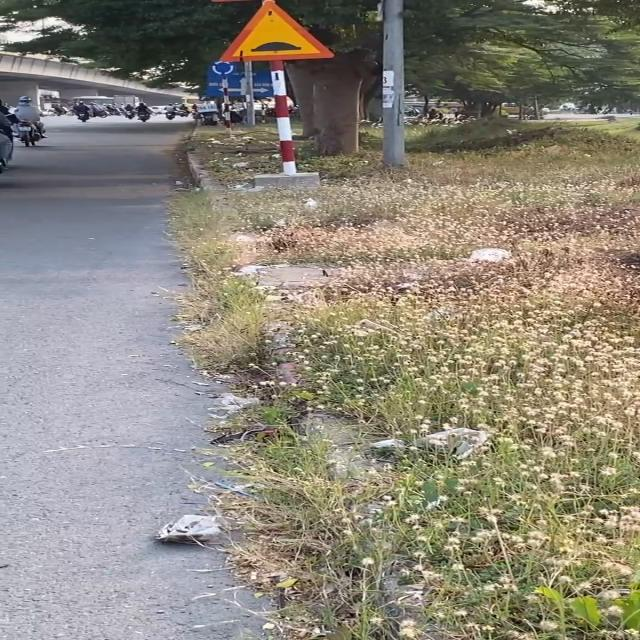221-duong-go-ghe: (216, 0, 336, 60)
303-noi-giao-nhau-chay-theo-vong-xuyen: (210, 58, 238, 78)
